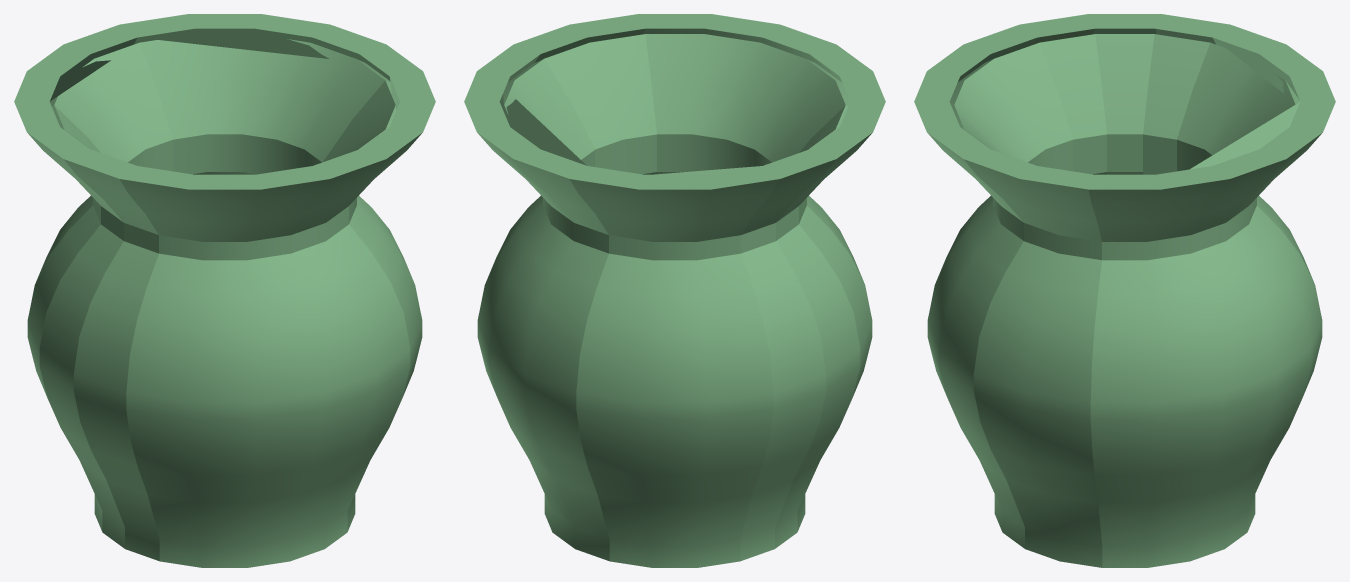
Rendered from vase.fbx.
3 renders of one model, left to right at view 1: azimuth 30°, elevation 25°; view 2: azimuth 150°, elevation 25°; view 3: azimuth 270°, elevation 25°, orthographic.
Parts seen in each view (by area): view 1: vase; view 2: vase; view 3: vase.
Boxes of the visible parts, bbox=[...] form: vase: bbox=[14, 14, 435, 567]; vase: bbox=[464, 14, 885, 567]; vase: bbox=[914, 14, 1335, 567].
Size of the model in its own units: 116 by 127 by 118.
